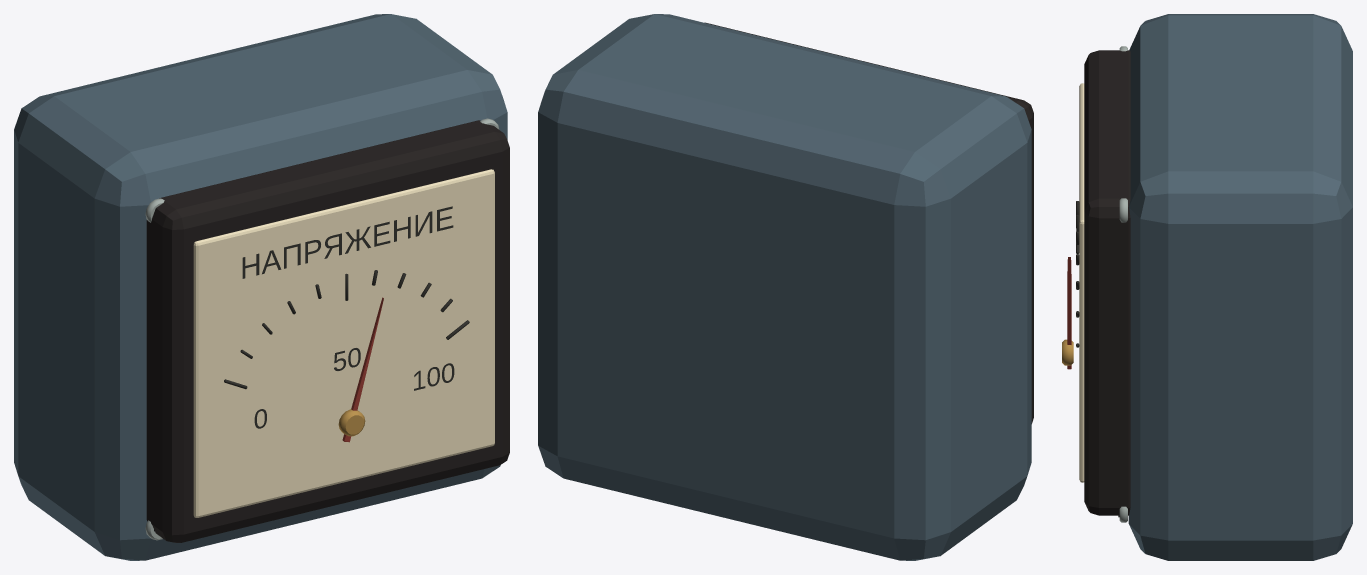
File: AnalogGauge.fbx
3 views of the same model, side by side, from view 1: azimuth 30°, elevation 25°; view 2: azimuth 150°, elevation 25°; view 3: azimuth 270°, elevation 25° (orthographic). The views are drawn at different scales.
Parts seen in each view (by area): view 1: Die-cast case, Ivory dial, Gauge frame, Label.007, Needle; view 2: Die-cast case, Gauge frame; view 3: Die-cast case, Gauge frame, Ivory dial, Needle.
Boxes of the visible parts, box(x1,y1,x2,y2) form: Die-cast case: box(14, 14, 507, 560); Ivory dial: box(193, 169, 494, 517); Gauge frame: box(146, 120, 509, 542); Label.007: box(242, 206, 453, 278); Needle: box(342, 297, 383, 442); Die-cast case: box(538, 14, 1031, 560); Gauge frame: box(704, 22, 1033, 423); Die-cast case: box(1128, 14, 1352, 560); Gauge frame: box(1084, 50, 1130, 515); Ivory dial: box(1079, 83, 1084, 482); Needle: box(1067, 257, 1071, 369).
Size of the model in its own units: 0.272 by 0.26 by 0.1765.
